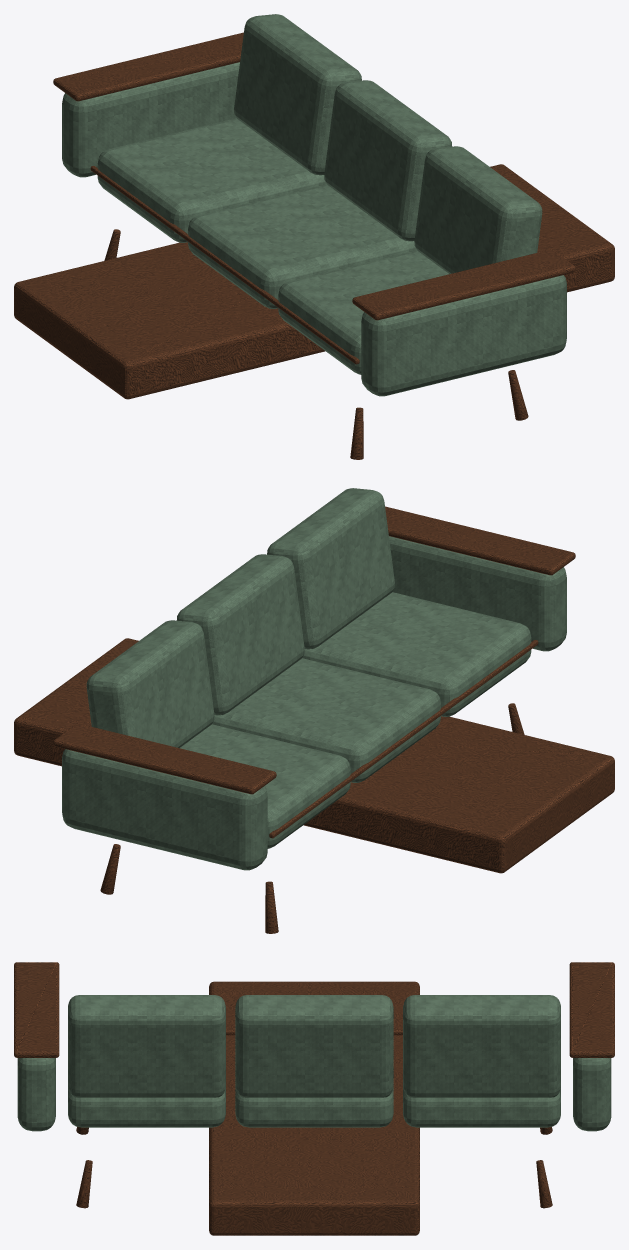
Rendered from interior-prop-sofa.glb.
3 renders of one model, top to bottom at view 1: azimuth 30°, elevation 25°; view 2: azimuth 150°, elevation 25°; view 3: azimuth 270°, elevation 25°, orthographic. The views are drawn at different scales.
Parts seen in each view (by area): view 1: sofa-frame, sofa-arm-r, sofa-seat-1, sofa-seat-0, sofa-back-1, sofa-back-0, sofa-back-2, sofa-arm-l, sofa-seat-2, sofa-arm-cap-r, sofa-arm-cap-l, sofa-welt; view 2: sofa-frame, sofa-arm-l, sofa-seat-1, sofa-seat-2, sofa-back-1, sofa-back-2, sofa-back-0, sofa-arm-r, sofa-seat-0, sofa-arm-cap-l, sofa-arm-cap-r, sofa-welt; view 3: sofa-frame, sofa-back-1, sofa-back-0, sofa-back-2, sofa-seat-1, sofa-seat-0, sofa-seat-2, sofa-arm-cap-l, sofa-arm-cap-r, sofa-arm-l, sofa-arm-r, sofa-leg-2 (+1 smaller).
Boxes of the visible parts, x1,y1,x2,y2 form: sofa-frame: [14, 164, 614, 399]; sofa-arm-r: [361, 275, 566, 396]; sofa-seat-1: [188, 184, 416, 308]; sofa-seat-0: [97, 118, 326, 242]; sofa-back-1: [324, 80, 452, 241]; sofa-back-0: [234, 14, 361, 175]; sofa-back-2: [414, 146, 542, 273]; sofa-arm-l: [62, 62, 239, 177]; sofa-seat-2: [278, 250, 449, 374]; sofa-arm-cap-r: [352, 249, 575, 320]; sofa-arm-cap-l: [53, 32, 243, 101]; sofa-welt: [90, 166, 359, 364]; sofa-frame: [14, 638, 614, 873]; sofa-arm-l: [62, 749, 267, 870]; sofa-seat-1: [212, 658, 440, 782]; sofa-seat-2: [302, 592, 531, 716]; sofa-back-1: [176, 554, 304, 715]; sofa-back-2: [267, 488, 394, 649]; sofa-back-0: [86, 620, 214, 747]; sofa-arm-r: [389, 536, 566, 651]; sofa-seat-0: [179, 724, 350, 848]; sofa-arm-cap-l: [53, 723, 276, 794]; sofa-arm-cap-r: [385, 506, 575, 575]; sofa-welt: [269, 640, 538, 838]; sofa-frame: [209, 981, 419, 1235]; sofa-back-1: [235, 995, 393, 1097]; sofa-back-0: [403, 995, 560, 1097]; sofa-back-2: [68, 995, 225, 1097]; sofa-seat-1: [235, 1087, 393, 1127]; sofa-seat-0: [403, 1087, 560, 1127]; sofa-seat-2: [68, 1087, 225, 1127]; sofa-arm-cap-l: [569, 962, 614, 1057]; sofa-arm-cap-r: [14, 962, 59, 1057]; sofa-arm-l: [573, 1058, 611, 1131]; sofa-arm-r: [17, 1058, 55, 1131]; sofa-leg-2: [536, 1160, 552, 1208].
Bounding box in the file's own units: 2.2 × 0.9468 × 2.51.
Materials: 2 (2 with a texture image).
